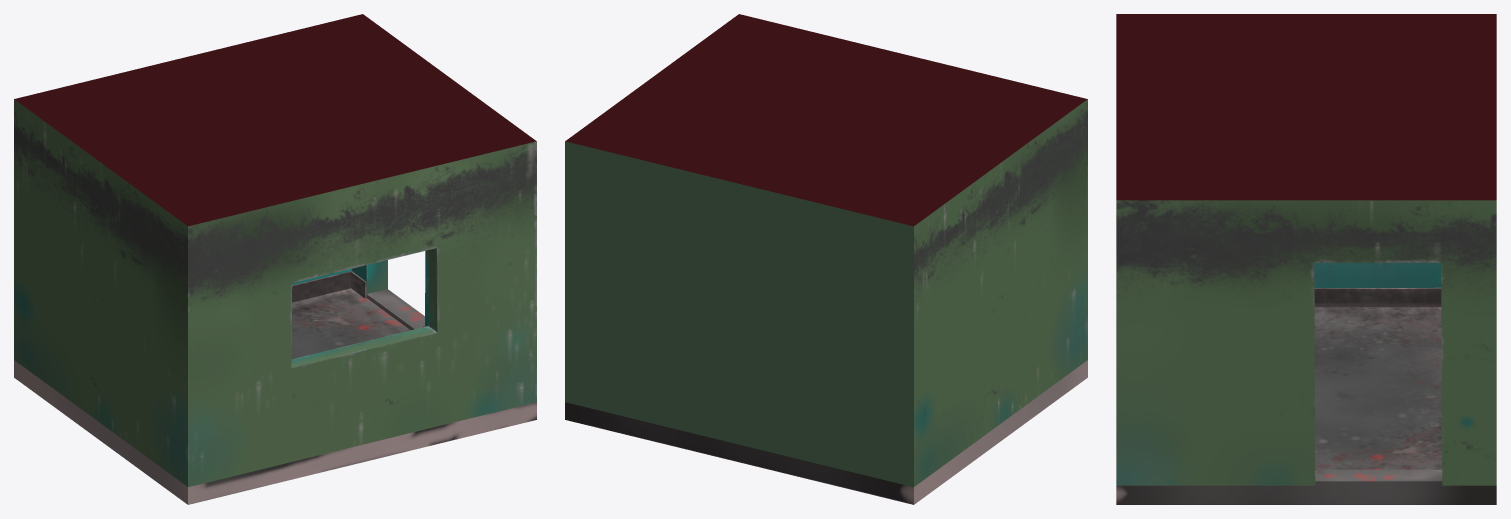
The model's file is cielingaaaahkillmenow.fbx.
The picture shows the model from 3 angles, left to right: view 1: azimuth 30°, elevation 25°; view 2: azimuth 150°, elevation 25°; view 3: azimuth 270°, elevation 25°; orthographic projection. The views are drawn at different scales.
Visible parts, largest first — view 1: Cube.003, Cube.002, Cube.001; view 2: Cube.004, Cube.002, Cube.003, Cube.001; view 3: Cube.003, Cube.002, Cube.001.
Part boxes in pixels (box(x1,y1,x2,y2)): Cube.003: box(14, 99, 536, 487); Cube.002: box(14, 14, 536, 226); Cube.001: box(14, 271, 536, 504); Cube.004: box(565, 141, 913, 487); Cube.002: box(565, 14, 1087, 226); Cube.003: box(914, 99, 1087, 486); Cube.001: box(565, 360, 1087, 504); Cube.003: box(1116, 200, 1496, 485); Cube.002: box(1116, 14, 1496, 200); Cube.001: box(1116, 287, 1496, 504).
Size of the model in its own units: 13.27 by 10.13 by 11.46.
